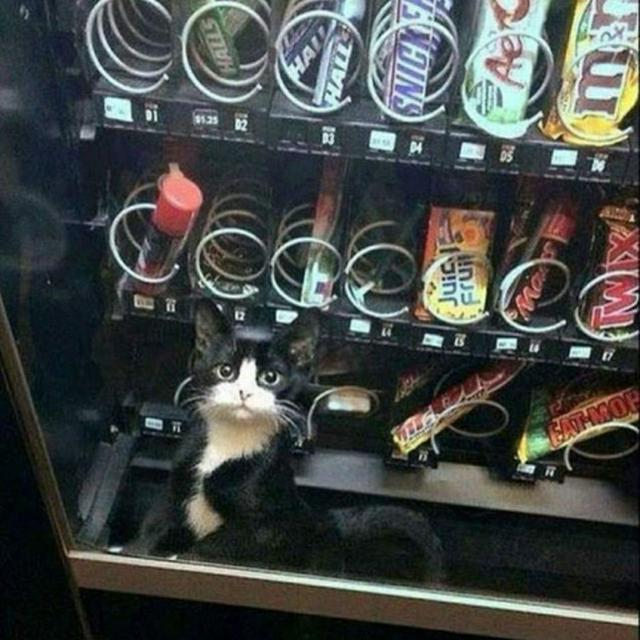Cats: (148, 280, 450, 610)
